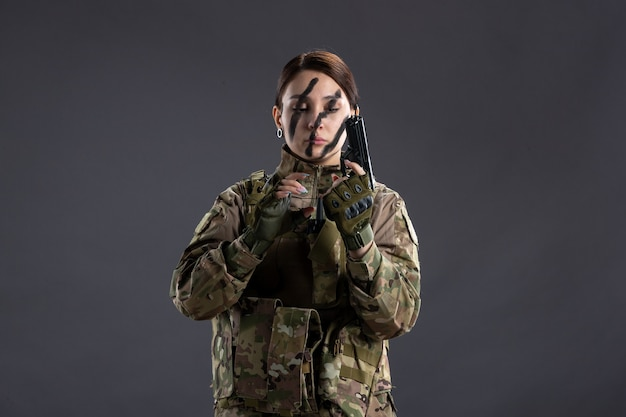gun: (310, 116, 376, 220)
